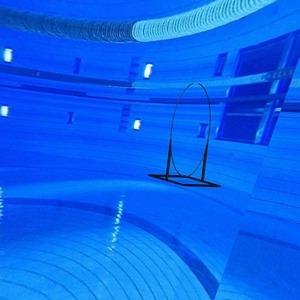circle: (147, 81, 224, 188)
